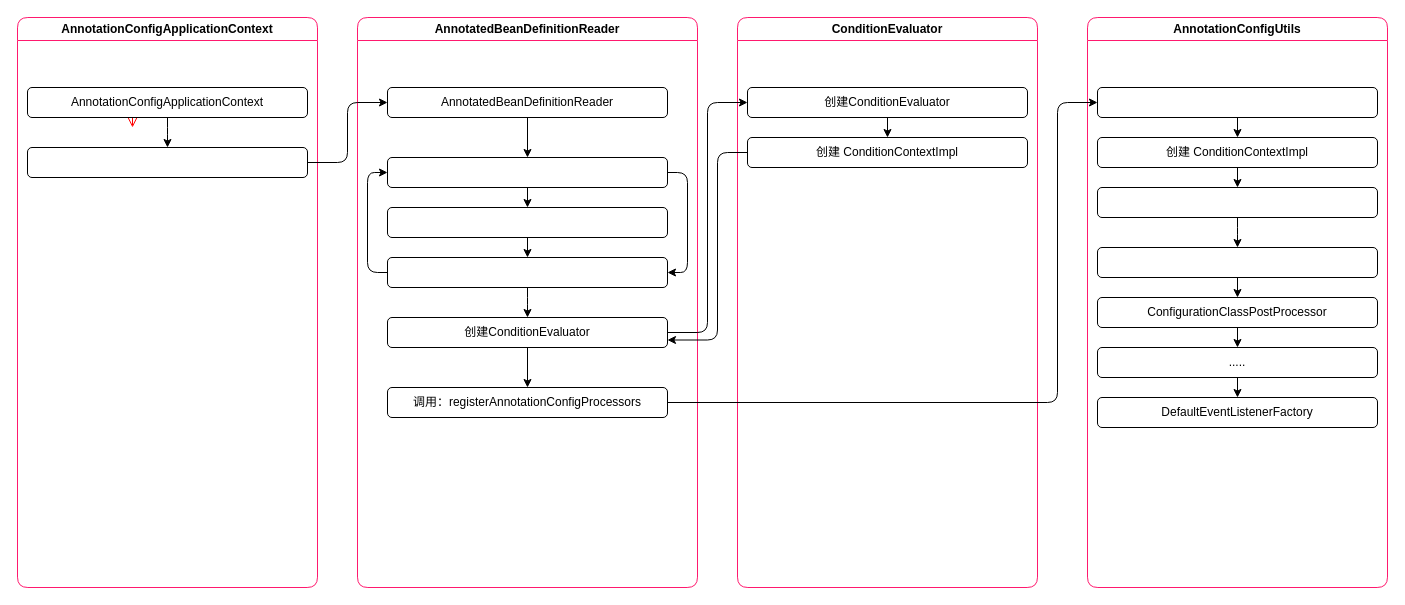
This 1405x605 diagram has some shape labels left out. The shapes that lost their labels are listed below. From the top down, each one's centre as x and y in pixels, then its label:
At (1237,102): "registerAnnotationConfigProcessors".
At (167,162): "this()".
At (527,172): "getOrCreateEnvironment".
At (527,222): "创建或者获取一个：StandardEnvironment".
At (1237,202): "获取Bean工厂附近：unwrapDefaultListableBeanFactory".
At (527,272): "this".
At (1237,262): "注几个spring默认的Bean".
